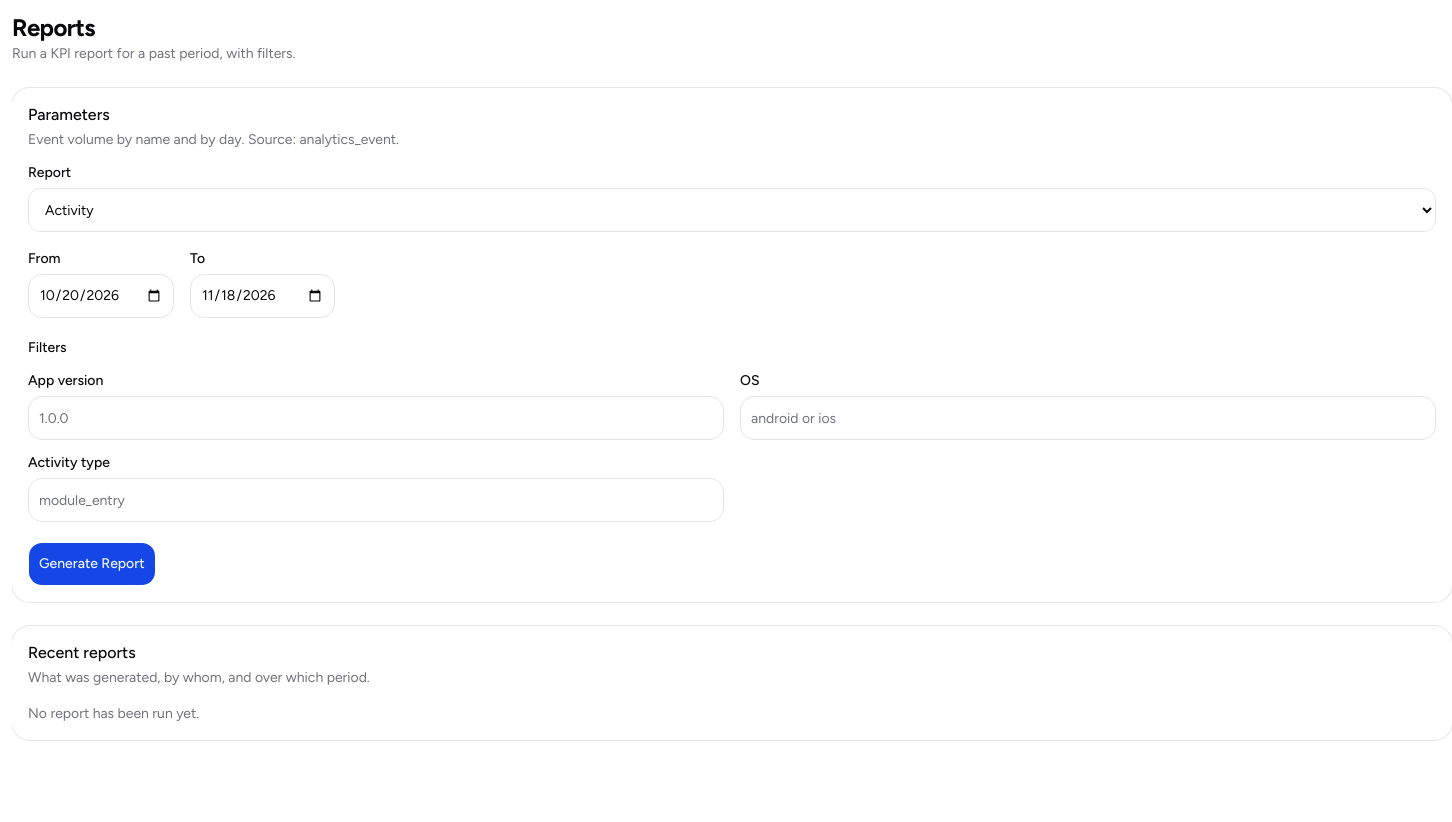
Test case: ReportBuilderView › offers only the filters the chosen report can apply
This screenshot has width=1452, height=822.
Check: the field labelled "App version" is shown, box [28,396,724,440]
Check: the field labelled "OS" is shown, box [740,396,1436,440]
Select "Engagement" in the dropdown labelled "Report": (732, 210) [28,188,1436,232]
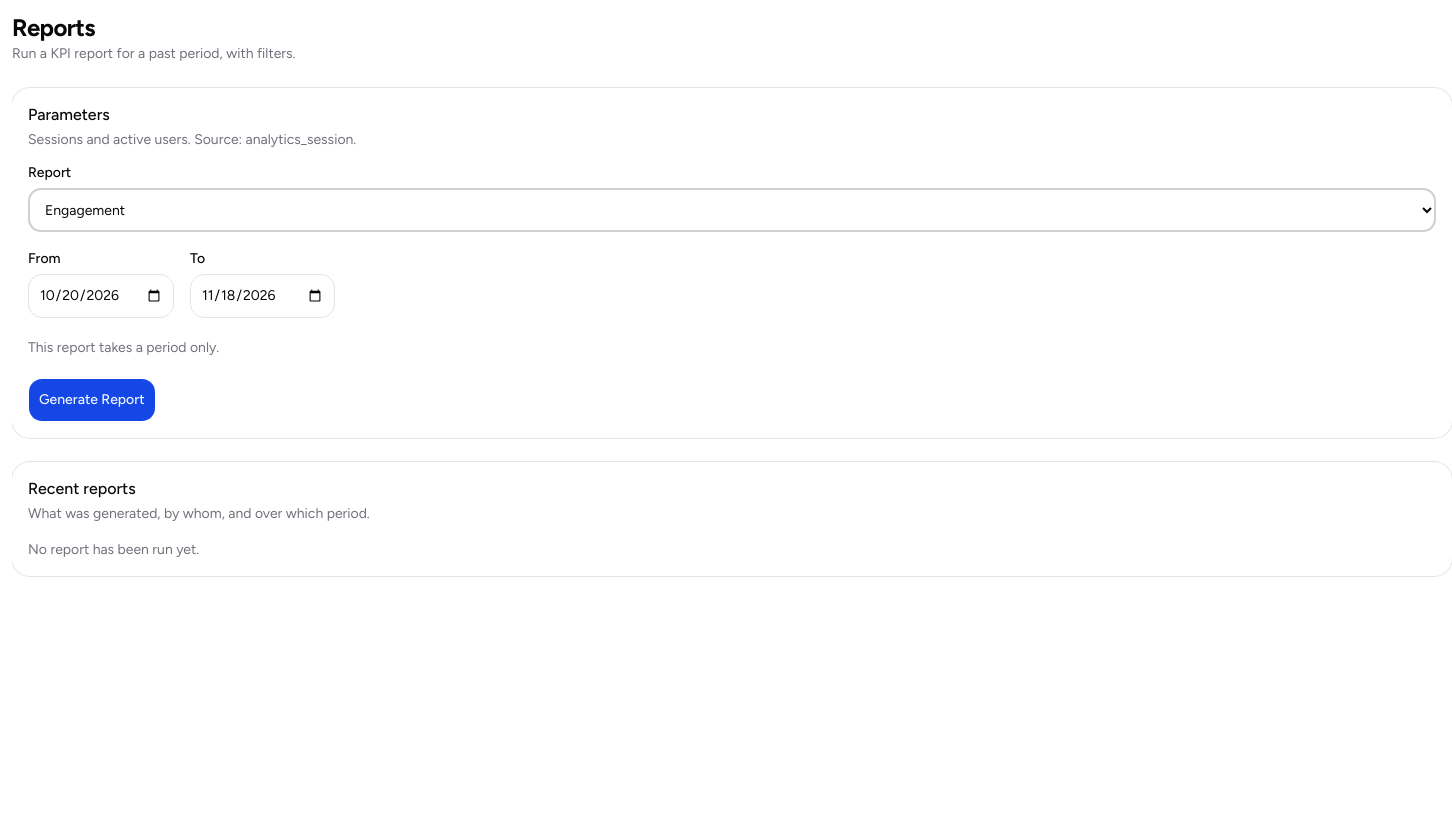
Check: the label labelled "App version" is gone
Check: the text "This report takes a period only." is shown, box [28,339,219,356]
